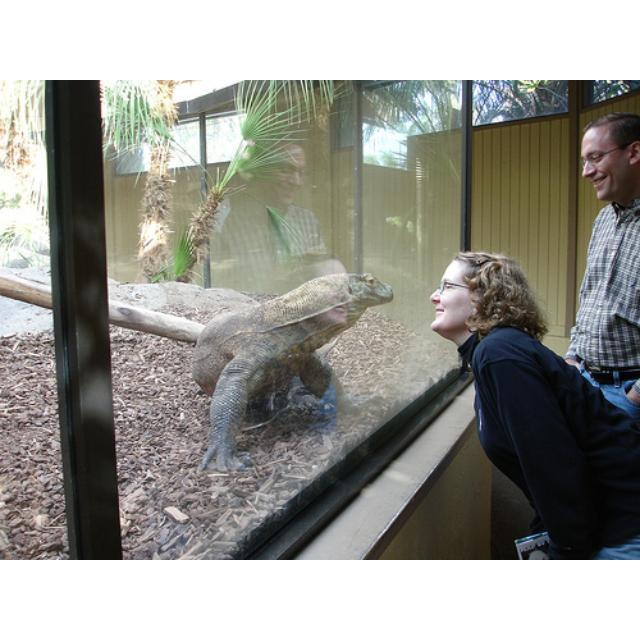KomodoDragon: (187, 260, 393, 478)
